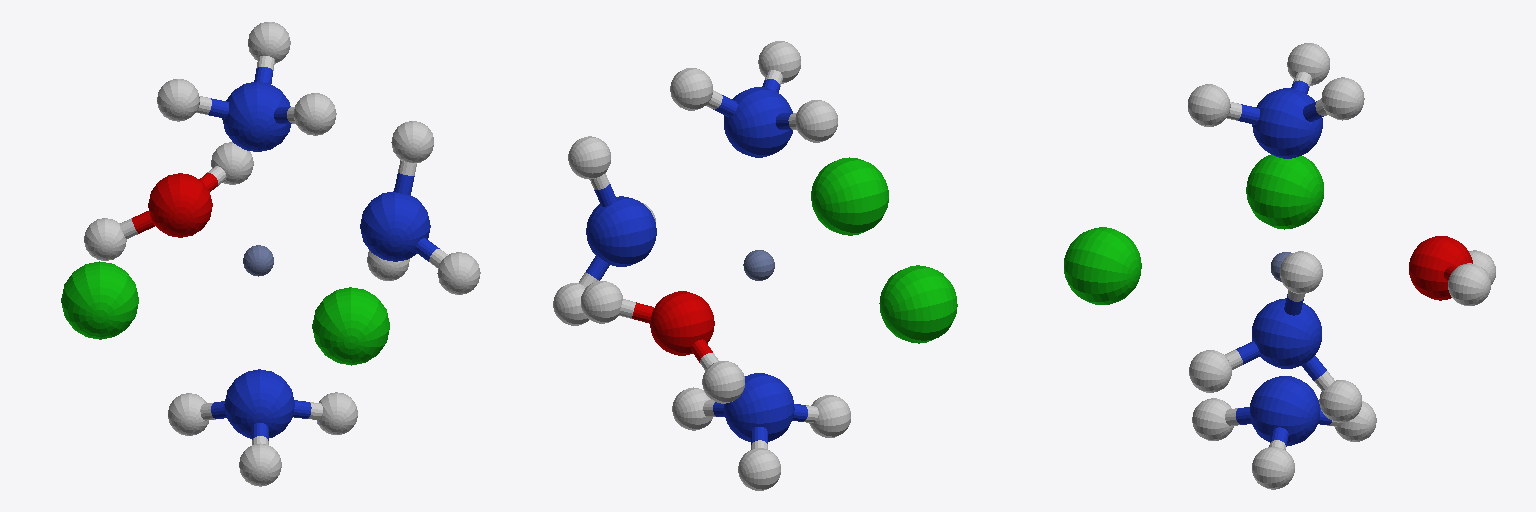
File: levo-mer-acuotriammin-cis-diclorohierro.obj
The picture shows the model from 3 angles: view 1: azimuth 30°, elevation 25°; view 2: azimuth 150°, elevation 25°; view 3: azimuth 270°, elevation 25°; orthographic projection.
Parts seen in each view (by area): view 1: ShapeSphere.011_ShapeSphere.030, ShapeSphere.010_ShapeSphere.029, ShapeSphere.004_ShapeSphere.023, ShapeSphere.001_ShapeSphere.020, ShapeSphere.007_ShapeSphere.026, ShapeSphere.015_ShapeSphere.034, ShapeSphere.009_ShapeSphere.028, ShapeSphere.006_ShapeSphere.025, ShapeSphere.002_ShapeSphere.021, ShapeSphere.008_ShapeSphere.027, ShapeSphere.005_ShapeSphere.024, ShapeSphere.017_ShapeSphere (+6 smaller); view 2: ShapeSphere.010_ShapeSphere.029, ShapeSphere.011_ShapeSphere.030, ShapeSphere.004_ShapeSphere.023, ShapeSphere.007_ShapeSphere.026, ShapeSphere.001_ShapeSphere.020, ShapeSphere.015_ShapeSphere.034, ShapeSphere.003_ShapeSphere.022, ShapeSphere.005_ShapeSphere.024, ShapeSphere.014_ShapeSphere.033, ShapeSphere.008_ShapeSphere.027, ShapeSphere.017_ShapeSphere, ShapeSphere.016_ShapeSphere.035 (+5 smaller); view 3: ShapeSphere.010_ShapeSphere.029, ShapeSphere.011_ShapeSphere.030, ShapeSphere.001_ShapeSphere.020, ShapeSphere.004_ShapeSphere.023, ShapeSphere.007_ShapeSphere.026, ShapeSphere.015_ShapeSphere.034, ShapeSphere.012_ShapeSphere.031, ShapeSphere.016_ShapeSphere.035, ShapeSphere.014_ShapeSphere.033, ShapeSphere.005_ShapeSphere.024, ShapeSphere.006_ShapeSphere.025, ShapeSphere.009_ShapeSphere.028 (+4 smaller).
Part boxes in pixels (x1,y1,x2,y2): ShapeSphere.011_ShapeSphere.030: (61,261,138,339); ShapeSphere.010_ShapeSphere.029: (312,287,389,365); ShapeSphere.004_ShapeSphere.023: (360,191,430,261); ShapeSphere.001_ShapeSphere.020: (224,369,294,438); ShapeSphere.007_ShapeSphere.026: (222,81,290,151); ShapeSphere.015_ShapeSphere.034: (148,173,212,237); ShapeSphere.009_ShapeSphere.028: (293,93,336,135); ShapeSphere.006_ShapeSphere.025: (437,252,480,294); ShapeSphere.002_ShapeSphere.021: (239,443,281,486); ShapeSphere.008_ShapeSphere.027: (157,79,199,121); ShapeSphere.005_ShapeSphere.024: (391,121,433,162); ShapeSphere.017_ShapeSphere: (84,218,126,260); ShapeSphere.010_ShapeSphere.029: (811,157,888,235); ShapeSphere.011_ShapeSphere.030: (879,265,957,343); ShapeSphere.004_ShapeSphere.023: (586,196,656,266); ShapeSphere.007_ShapeSphere.026: (724,87,792,157); ShapeSphere.001_ShapeSphere.020: (724,373,794,441); ShapeSphere.015_ShapeSphere.034: (650,291,714,355); ShapeSphere.003_ShapeSphere.022: (738,448,780,490); ShapeSphere.005_ShapeSphere.024: (568,136,610,179); ShapeSphere.014_ShapeSphere.033: (670,68,712,110); ShapeSphere.008_ShapeSphere.027: (795,100,837,142); ShapeSphere.017_ShapeSphere: (702,361,744,403); ShapeSphere.016_ShapeSphere.035: (581,281,622,323); ShapeSphere.010_ShapeSphere.029: (1064,227,1141,304); ShapeSphere.011_ShapeSphere.030: (1246,154,1323,229); ShapeSphere.001_ShapeSphere.020: (1250,376,1319,445); ShapeSphere.004_ShapeSphere.023: (1252,298,1321,368); ShapeSphere.007_ShapeSphere.026: (1252,88,1322,158); ShapeSphere.015_ShapeSphere.034: (1409,236,1472,300); ShapeSphere.012_ShapeSphere.031: (1252,447,1294,489); ShapeSphere.016_ShapeSphere.035: (1448,263,1490,305); ShapeSphere.014_ShapeSphere.033: (1321,77,1364,120); ShapeSphere.005_ShapeSphere.024: (1280,251,1322,293); ShapeSphere.006_ShapeSphere.025: (1189,350,1231,392); ShapeSphere.009_ShapeSphere.028: (1188,84,1230,126).
Size of the model in its own units: 4.99 by 5.06 by 5.